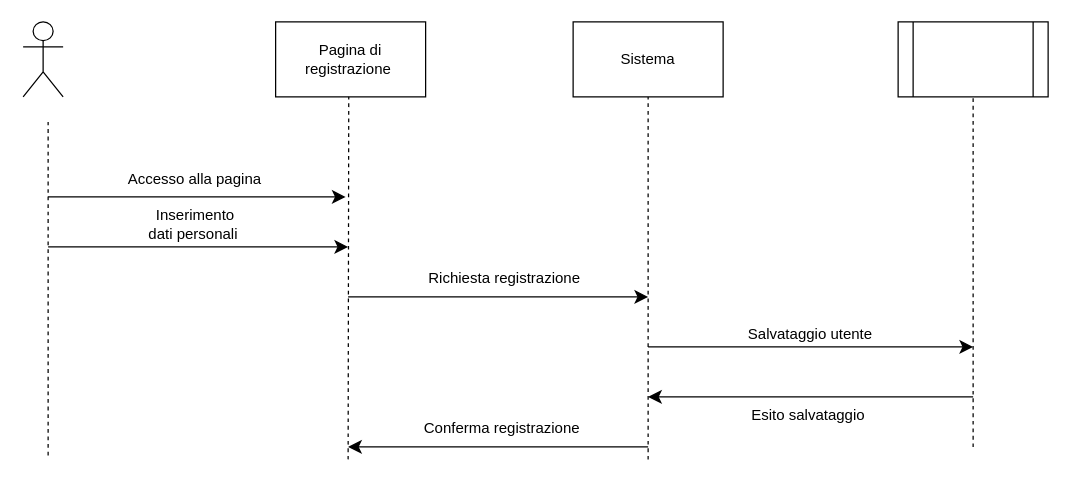
This 1070x494 diagram has some shape labels left out. Each missing label, with the centre of its shape:
Database: (972,59)
Utente: (42,59)
